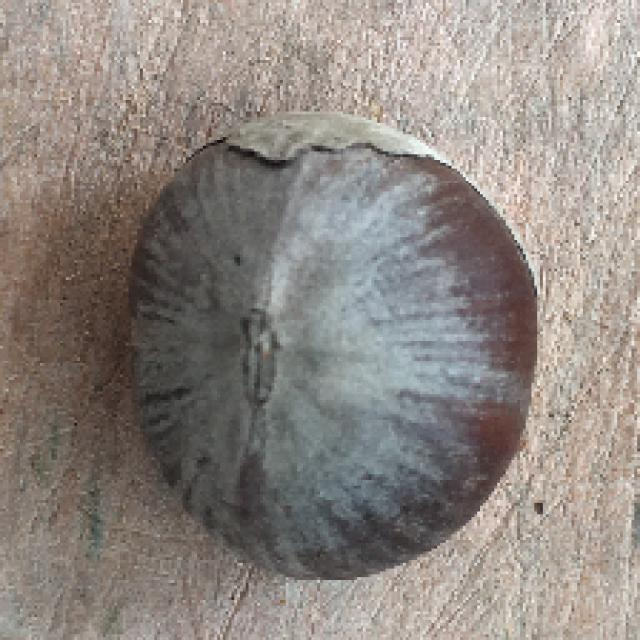DamagedHazelnut: (123, 110, 544, 583)
